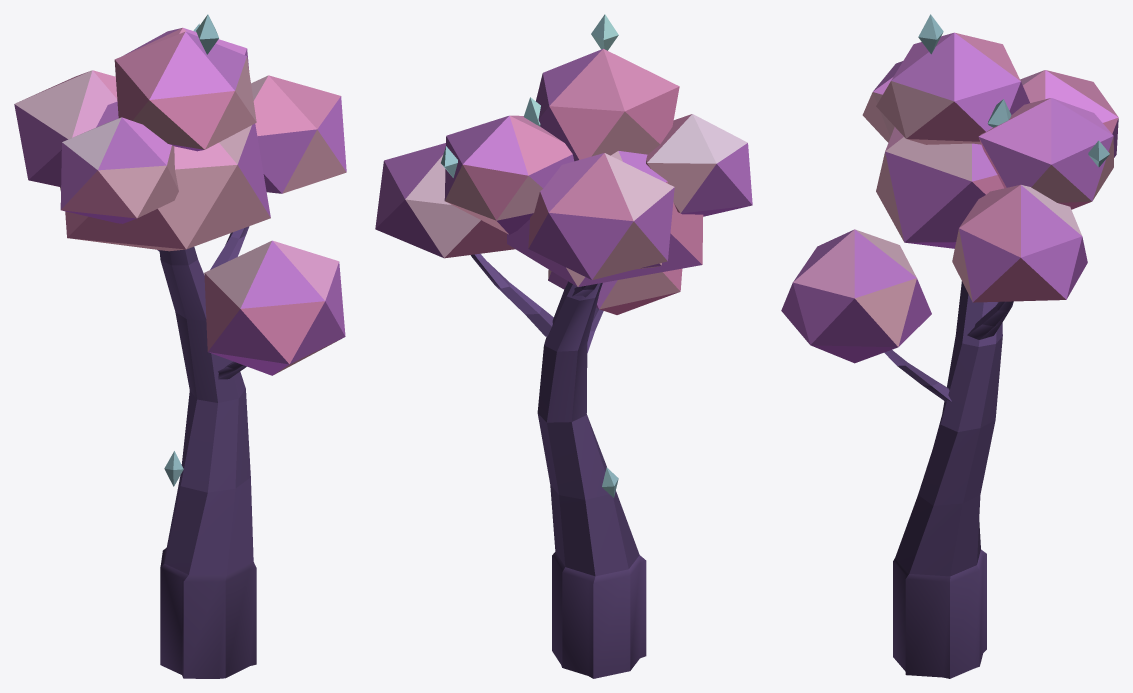
Rendered from Astral_Tree.glb.
3 renders of one model, left to right at view 1: azimuth 30°, elevation 25°; view 2: azimuth 150°, elevation 25°; view 3: azimuth 270°, elevation 25°, orthographic.
Parts seen in each view (by area): view 1: Astral_Tree; view 2: Astral_Tree; view 3: Astral_Tree.
Boxes of the visible parts, x1,y1,x2,y2 form: Astral_Tree: [14, 14, 346, 678]; Astral_Tree: [375, 14, 752, 678]; Astral_Tree: [781, 14, 1118, 678].
Size of the model in its own units: 4.24 by 8.05 by 3.83.
